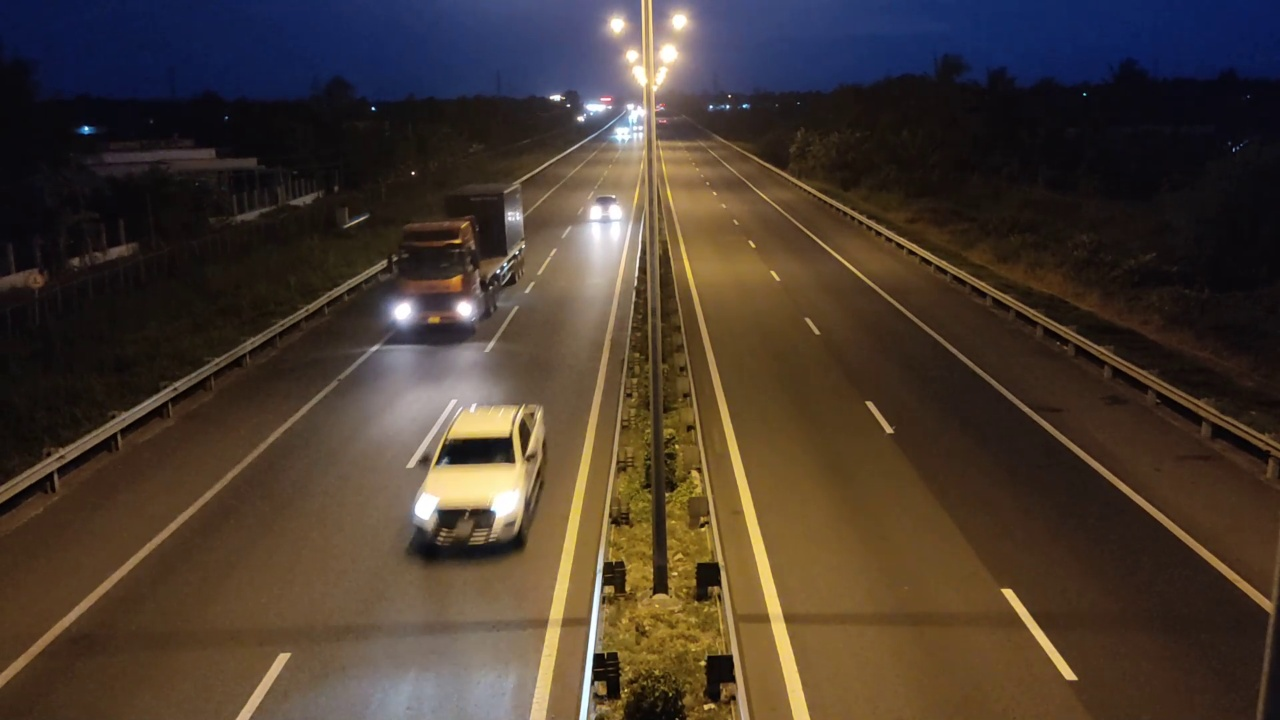car: (411, 390, 552, 558)
truck: (382, 179, 526, 339)
